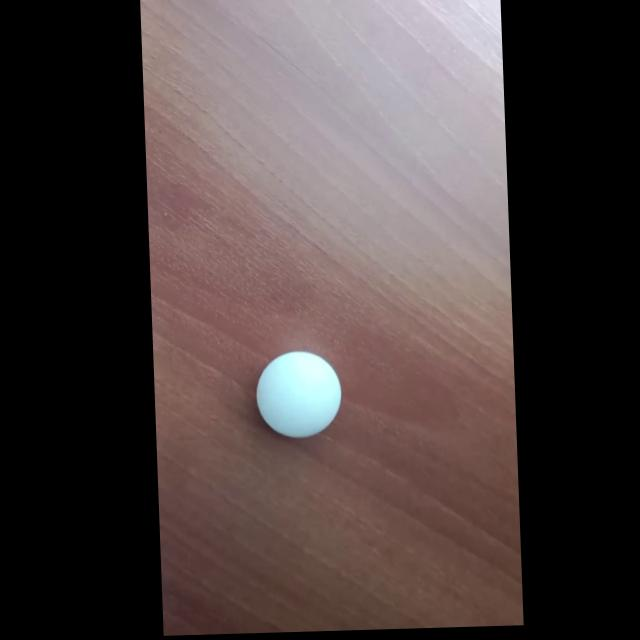white ball: (254, 349, 344, 440)
